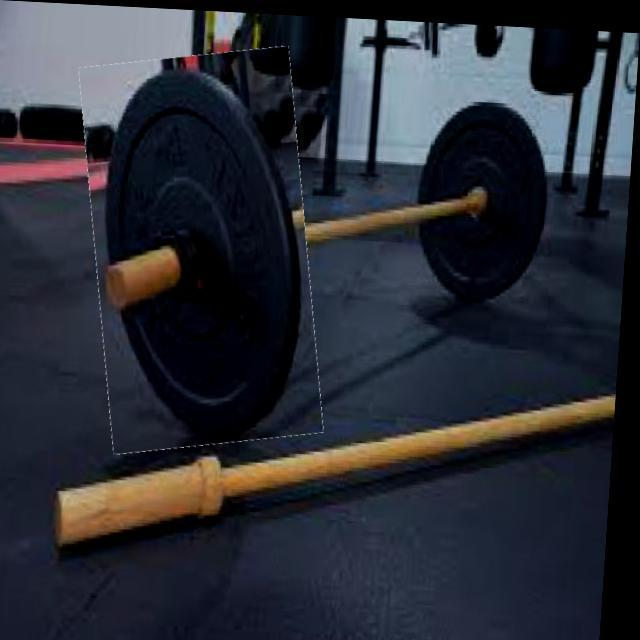barbell: (75, 43, 336, 455)
